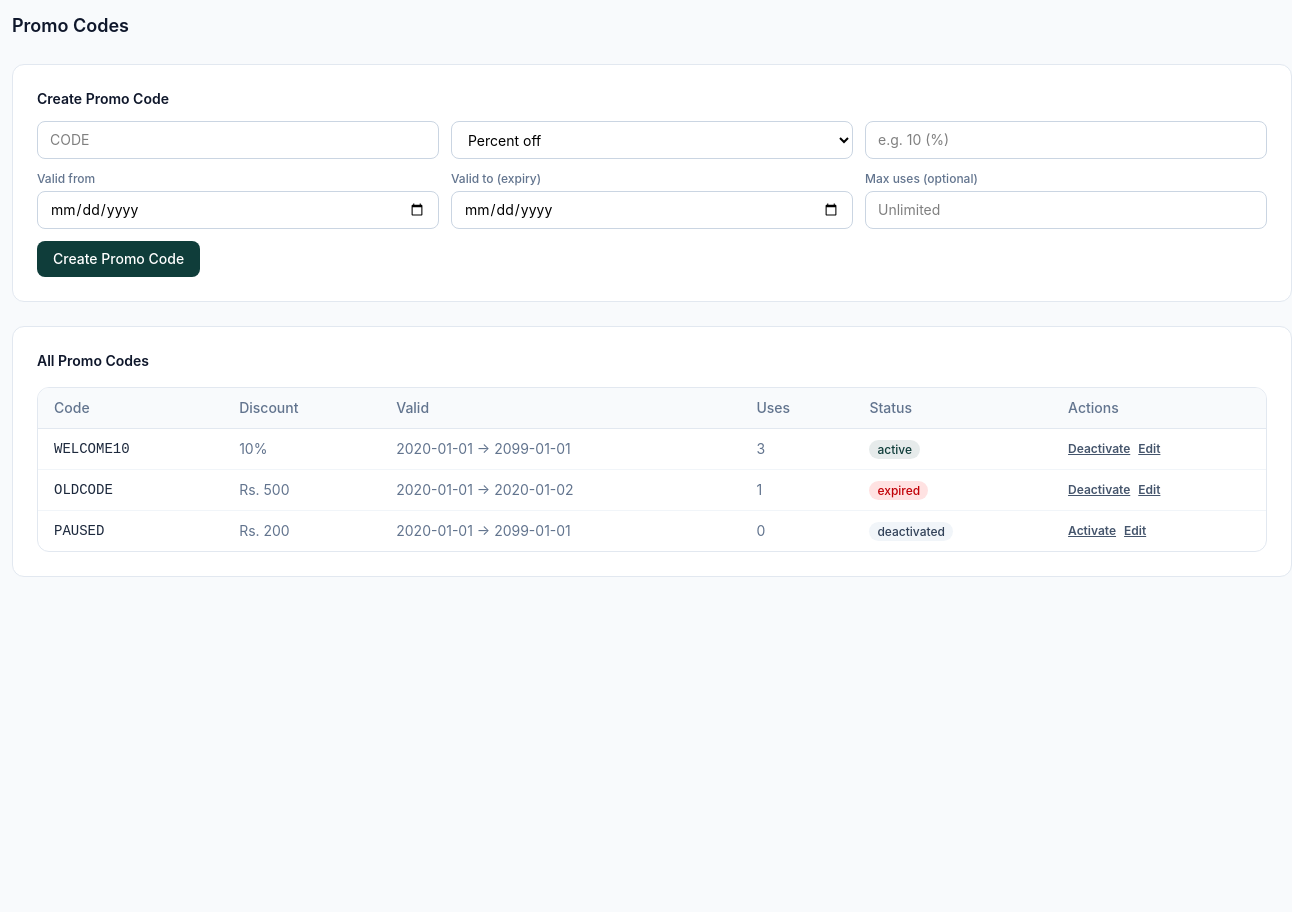
Test case: PromoCodesPage › requires code, value, and both dates before submitting
The image size is (1292, 912).
Check: the text "WELCOME10" is shown, box [38, 428, 223, 470]
Click the button "Create Promo Code".
click(119, 259)  # box [37, 241, 200, 277]
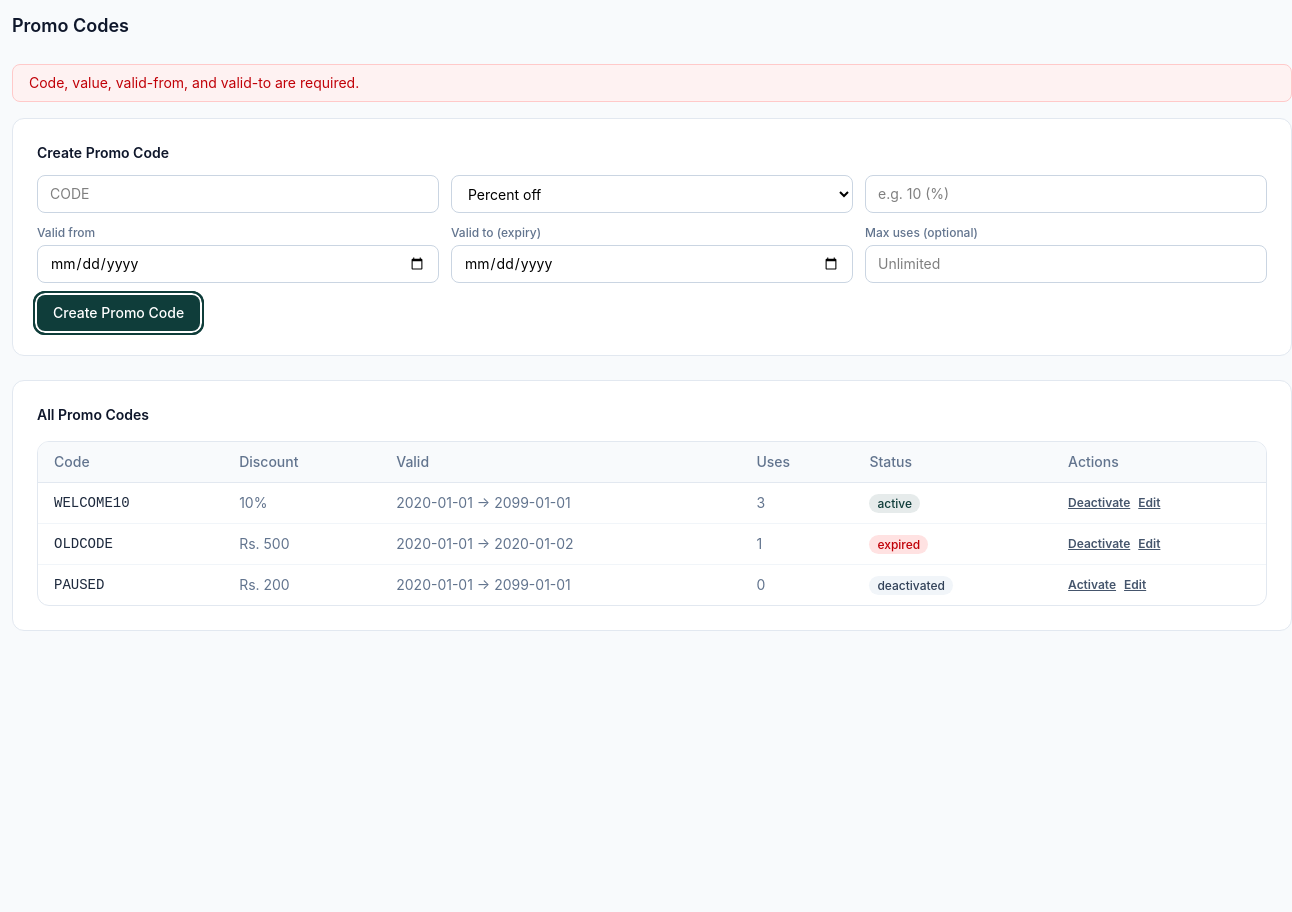
Check: the text "Code, value, valid-from, and valid-to are required." is shown, box [12, 64, 1291, 102]
